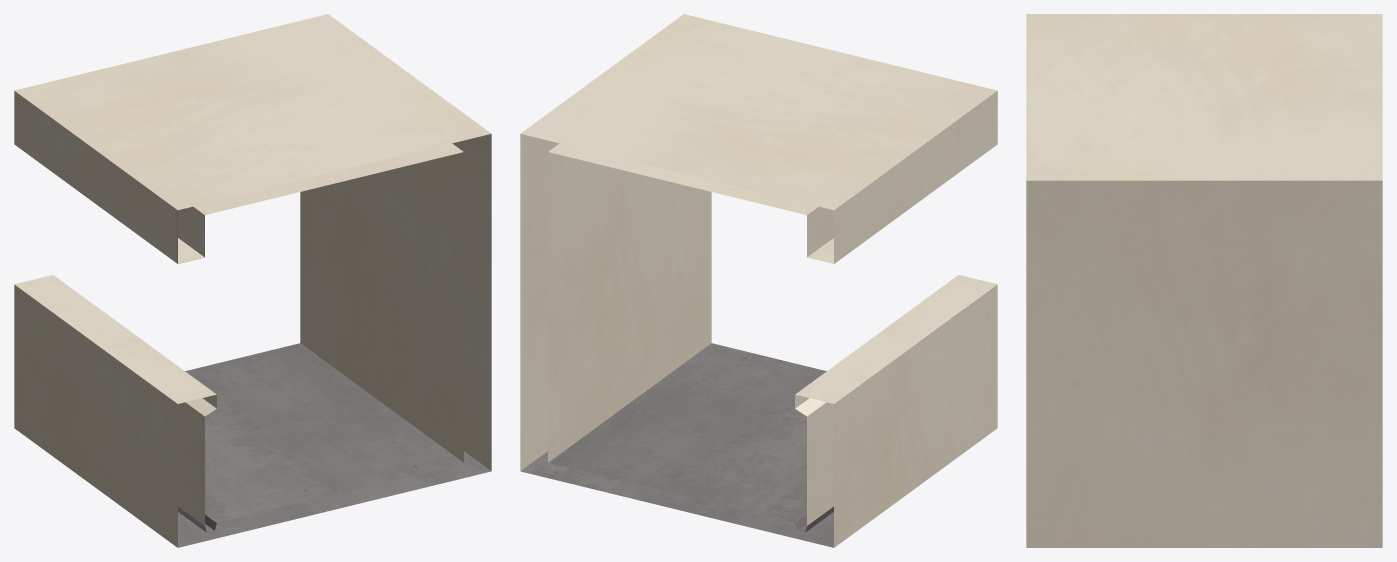
Rendered from LucasTan_NearDoorPc.fbx.
3 views of the same model, side by side, from view 1: azimuth 30°, elevation 25°; view 2: azimuth 150°, elevation 25°; view 3: azimuth 270°, elevation 25° (orthographic). The views are drawn at different scales.
Visible parts, largest first — view 1: plain_wall; view 2: plain_wall; view 3: plain_wall.
Part boxes in pixels (x1=…): plain_wall: x1=14, y1=14, x2=491, y2=547; plain_wall: x1=520, y1=14, x2=997, y2=547; plain_wall: x1=1026, y1=14, x2=1382, y2=547.
Bounding box in the file's own units: 2.89 × 2.97 × 2.61.
